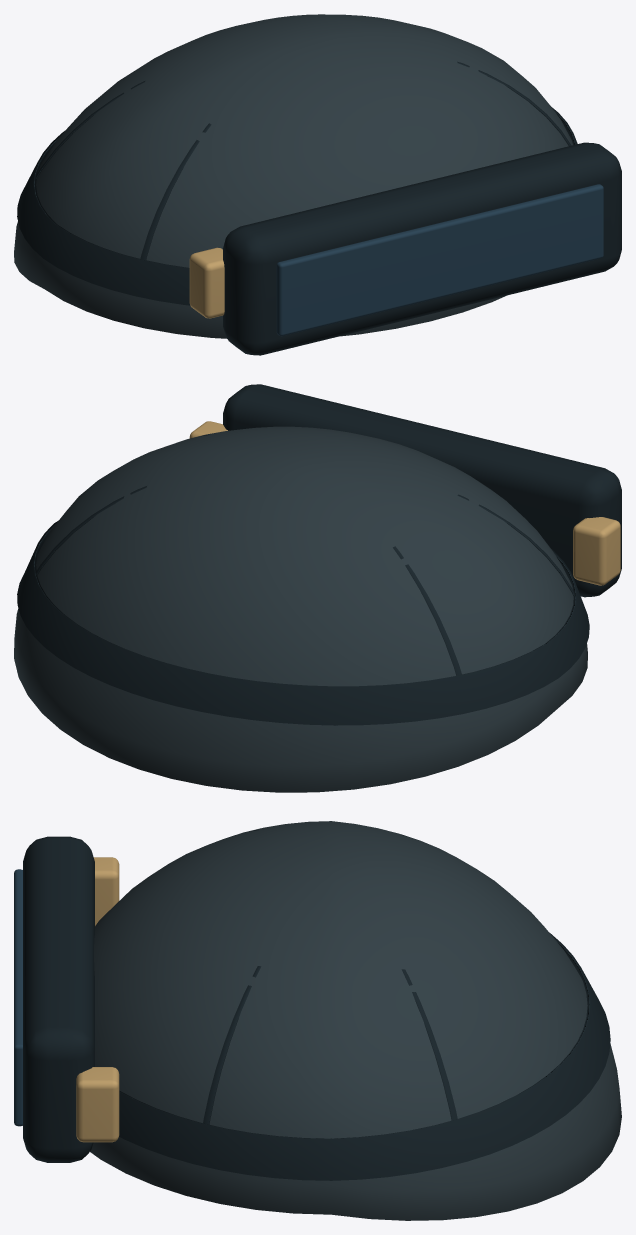
File: goose-light-helmet.glb
The picture shows the model from 3 angles, top to bottom: view 1: azimuth 30°, elevation 25°; view 2: azimuth 150°, elevation 25°; view 3: azimuth 270°, elevation 25°; orthographic projection. The views are drawn at different scales.
Visible parts, largest first — view 1: goose_helmet_light_mesh; view 2: goose_helmet_light_mesh; view 3: goose_helmet_light_mesh.
Part boxes in pixels (x1=…): goose_helmet_light_mesh: x1=14, y1=14, x2=621, y2=355; goose_helmet_light_mesh: x1=14, y1=384, x2=621, y2=792; goose_helmet_light_mesh: x1=14, y1=821, x2=621, y2=1220.
Bounding box in the file's own units: 0.9279 × 0.3875 × 0.8455.
